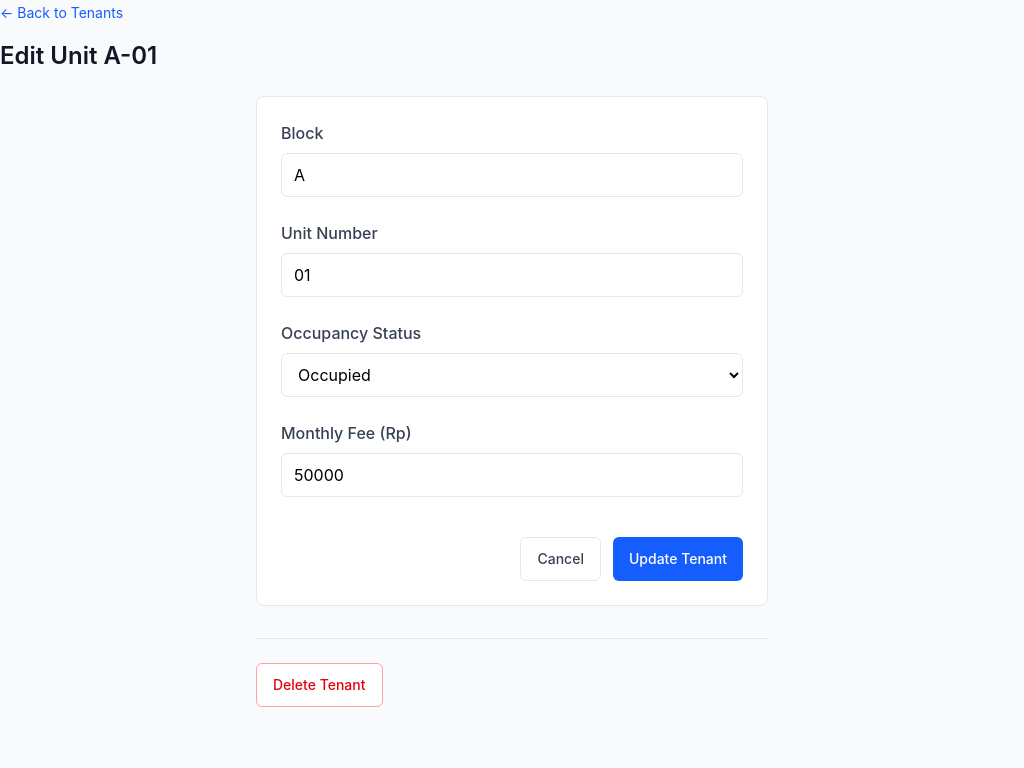
Test: TenantEditPage › opens ConfirmDialog when delete button clicked
Click the button "Delete Tenant" at (319, 685), box 256,663 -> 382,707
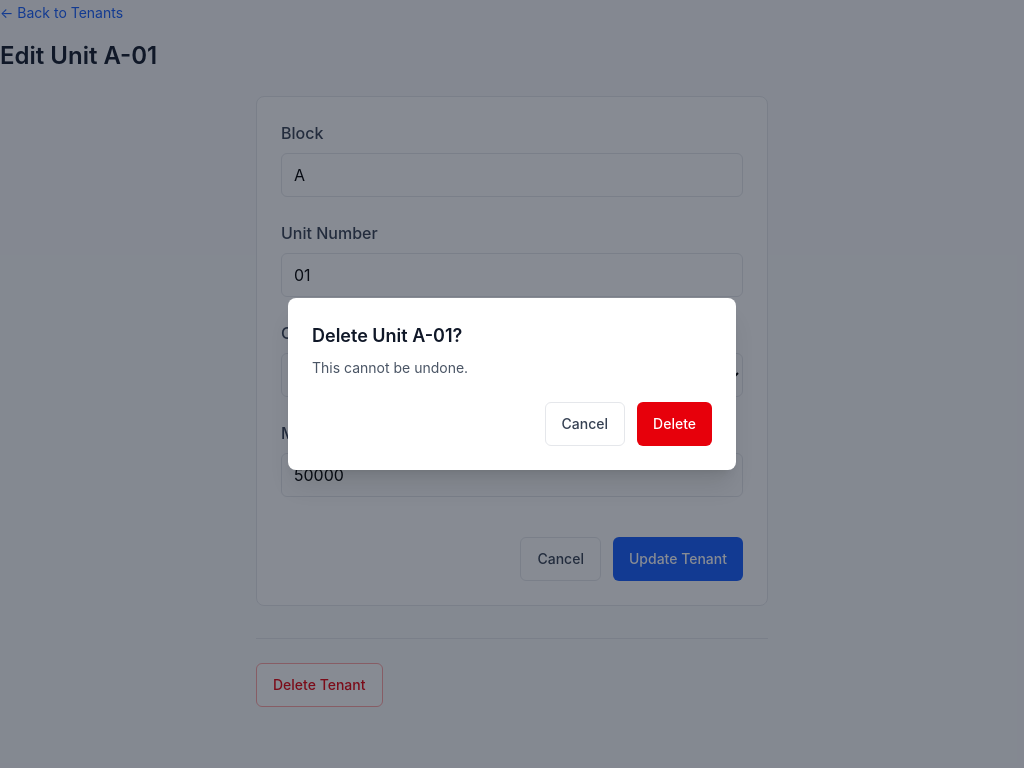
Expected: the heading "Delete Unit A-01?" is shown, 312,325 -> 462,346
Expected: the text "This cannot be undone." is shown, 312,359 -> 468,376
